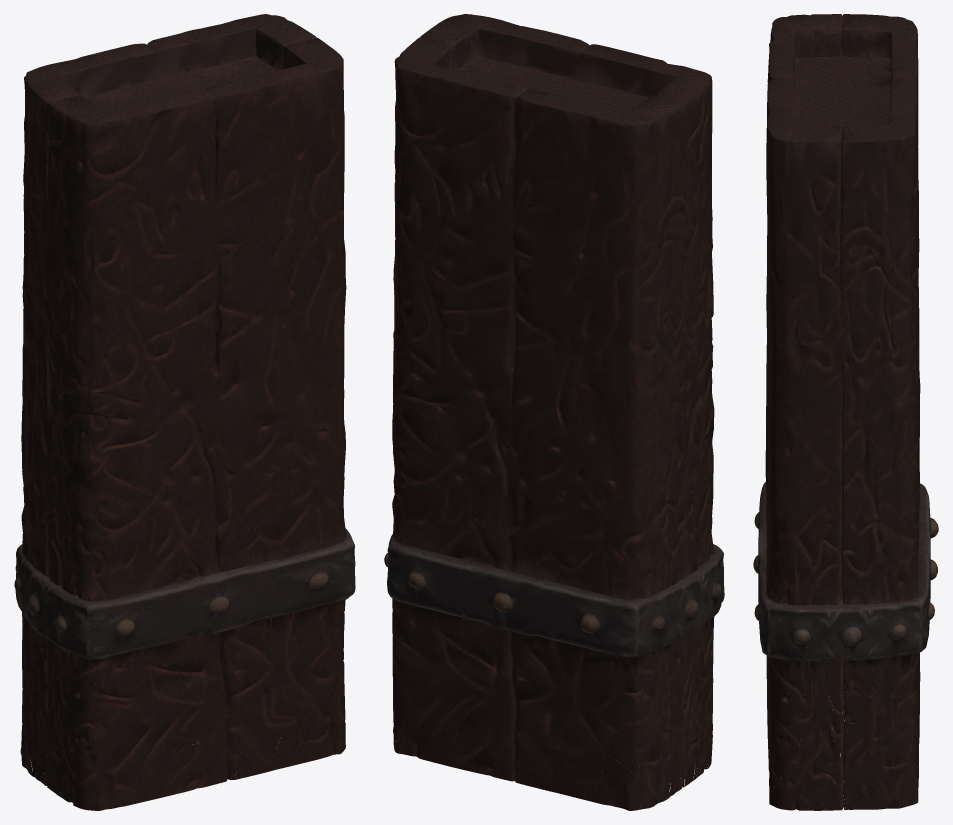
Rendered from column-timber-m7.glb.
The picture shows the model from 3 angles, left to right: view 1: azimuth 30°, elevation 25°; view 2: azimuth 150°, elevation 25°; view 3: azimuth 270°, elevation 25°; orthographic projection. The views are drawn at different scales.
Visible parts, largest first — view 1: column lantern bronze body; view 2: column lantern bronze body; view 3: column lantern bronze body.
Boxes of the visible parts, bbox=[...] form: column lantern bronze body: bbox=[14, 14, 355, 810]; column lantern bronze body: bbox=[384, 14, 724, 810]; column lantern bronze body: bbox=[753, 14, 938, 810].
Size of the model in its own units: 0.4002 by 0.8782 by 0.2204.
1 material, 1 textured.
